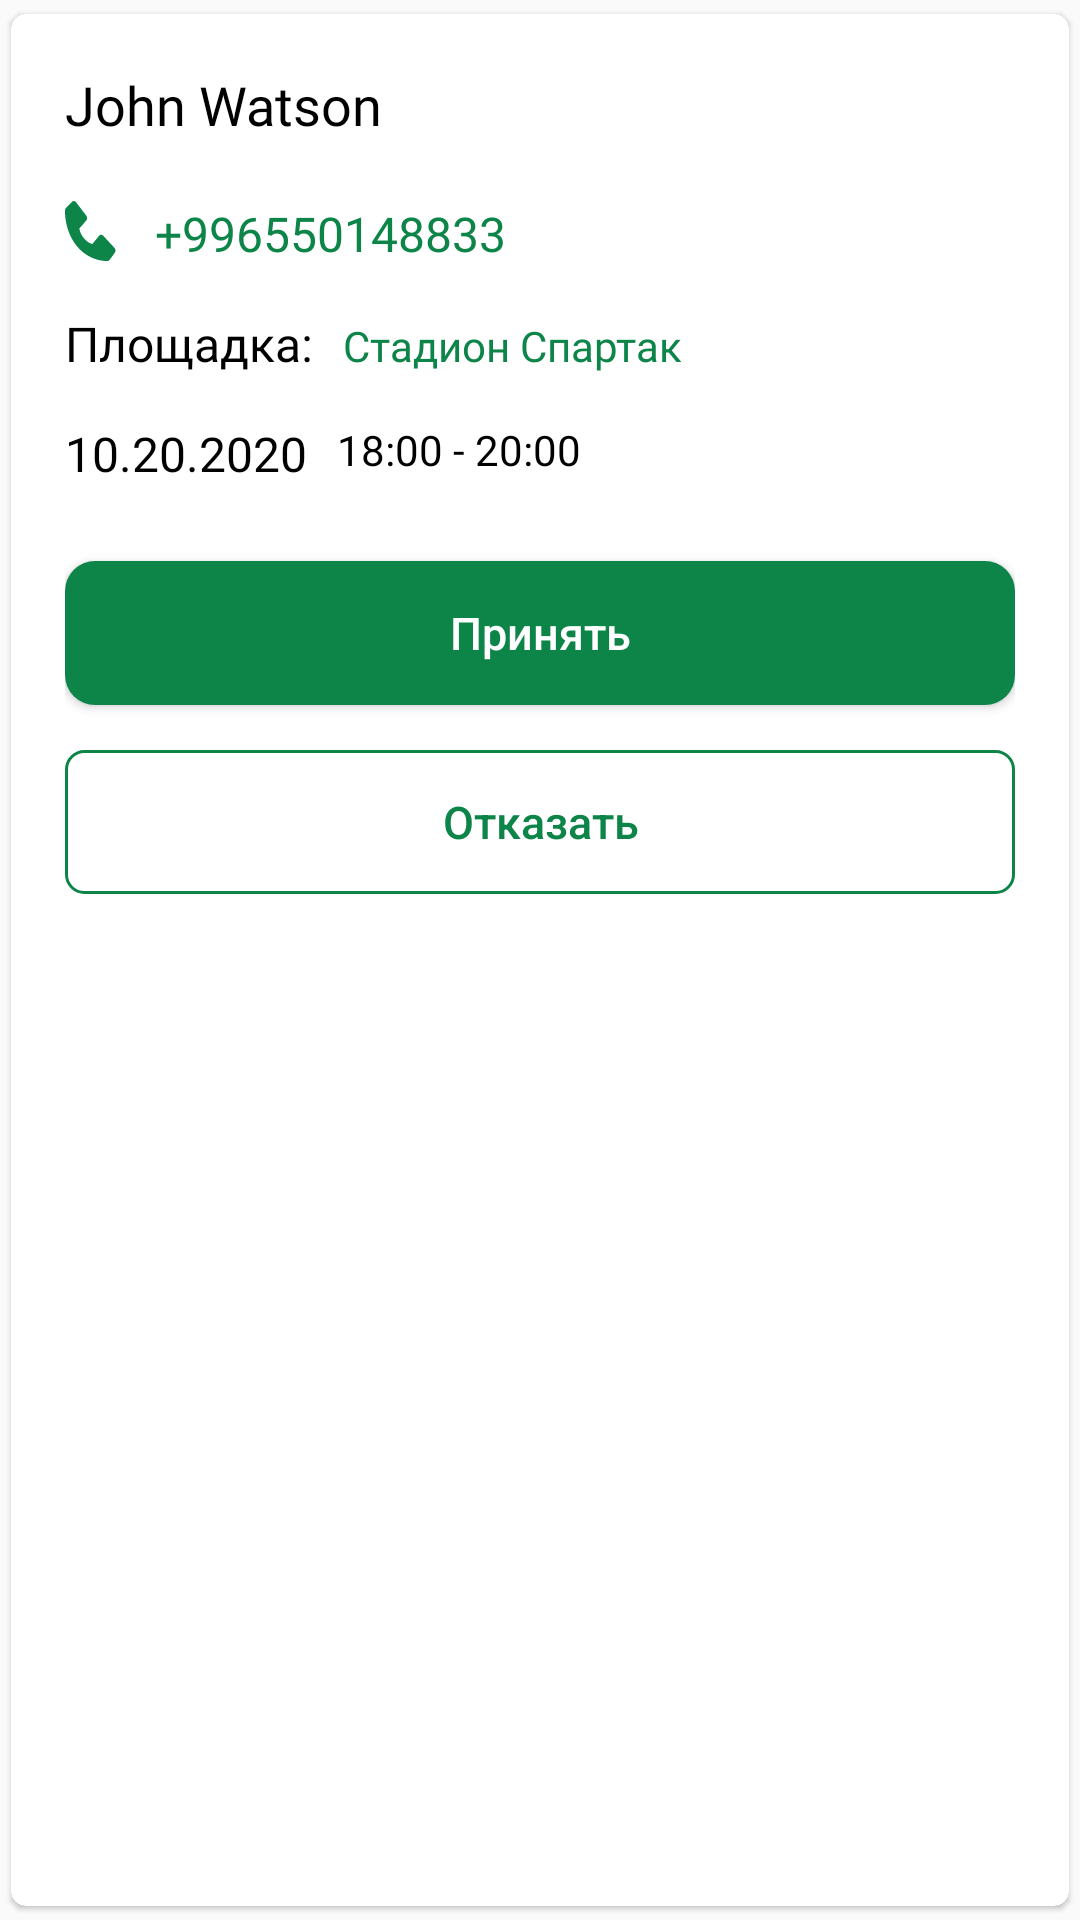

Screen size 1080w x 1920h. Icon name, then its box in pixels as (x1, y1, x2, y2):
phone: (65, 201, 116, 261)
